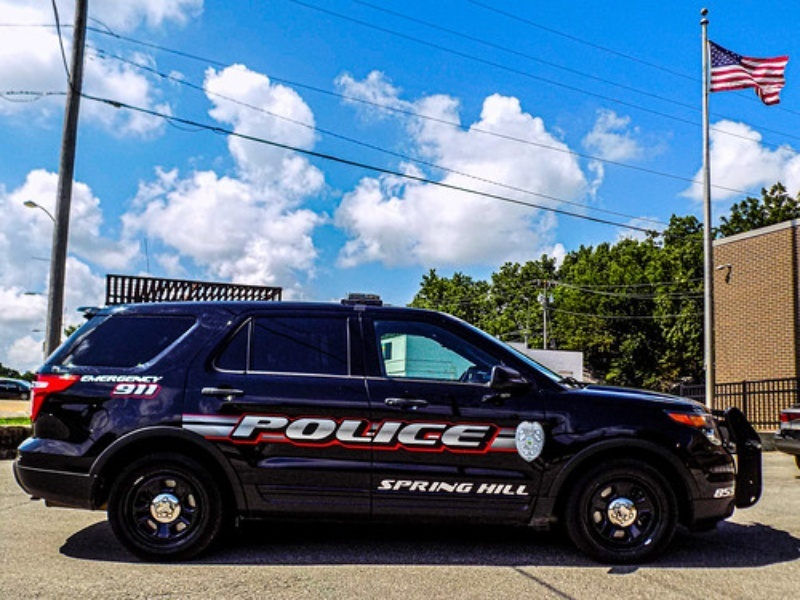policecar: (11, 284, 764, 551)
